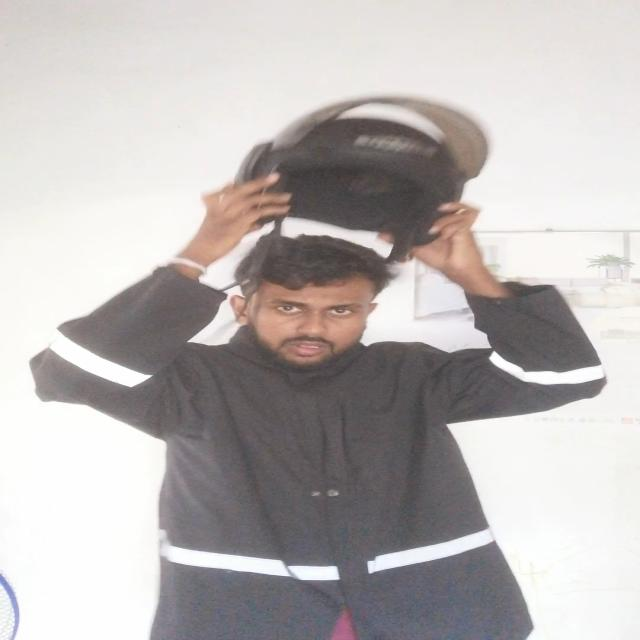Jacket_Wearer: (31, 261, 631, 640)
Person: (37, 213, 607, 640)
